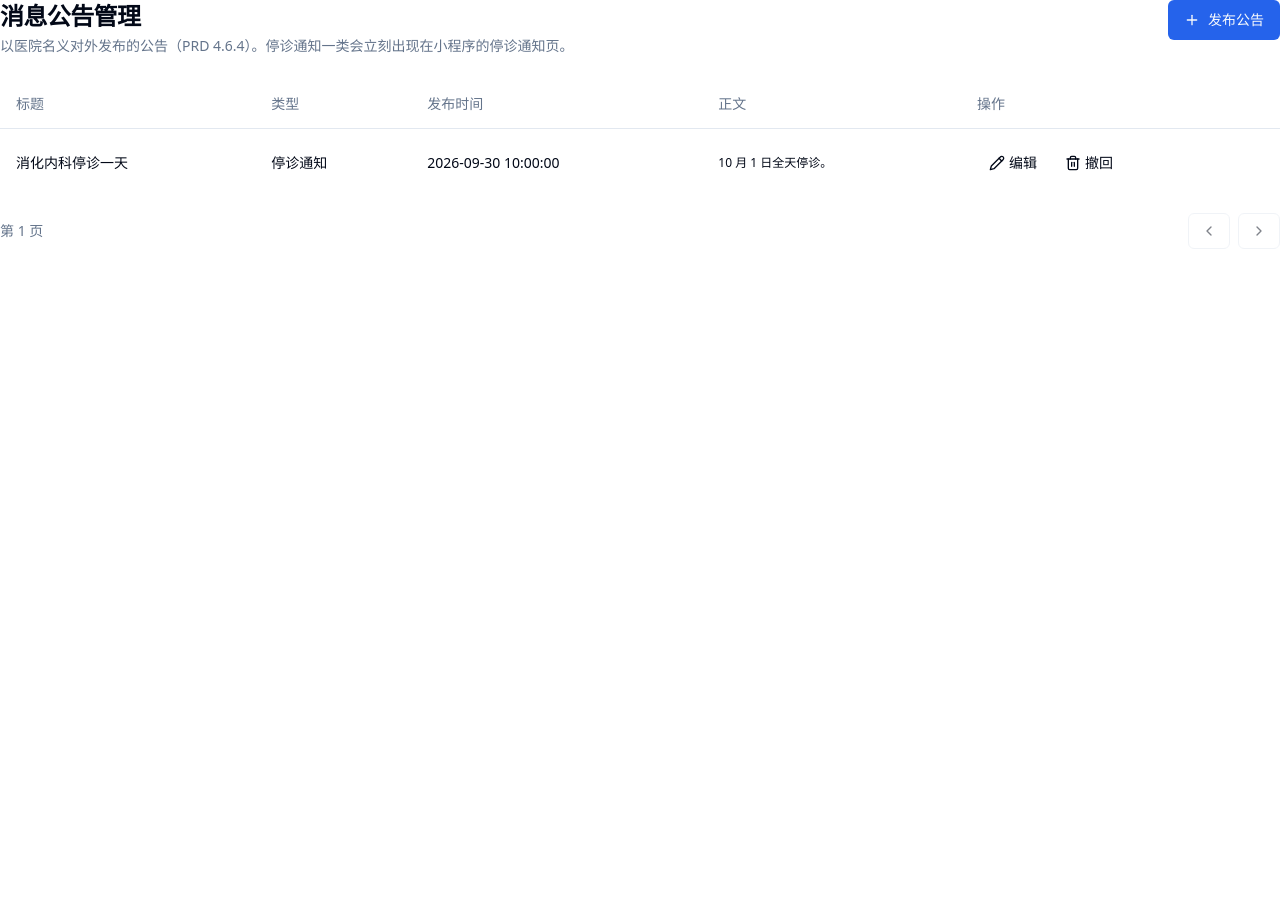
Test case: 消息公告管理页（PRD 4.6.4） › PRD 462 行的「推送范围」没有落点，页面上不出现这个字段
Click the button "发布公告". click: (1224, 20)
box: [1168, 0, 1279, 40]
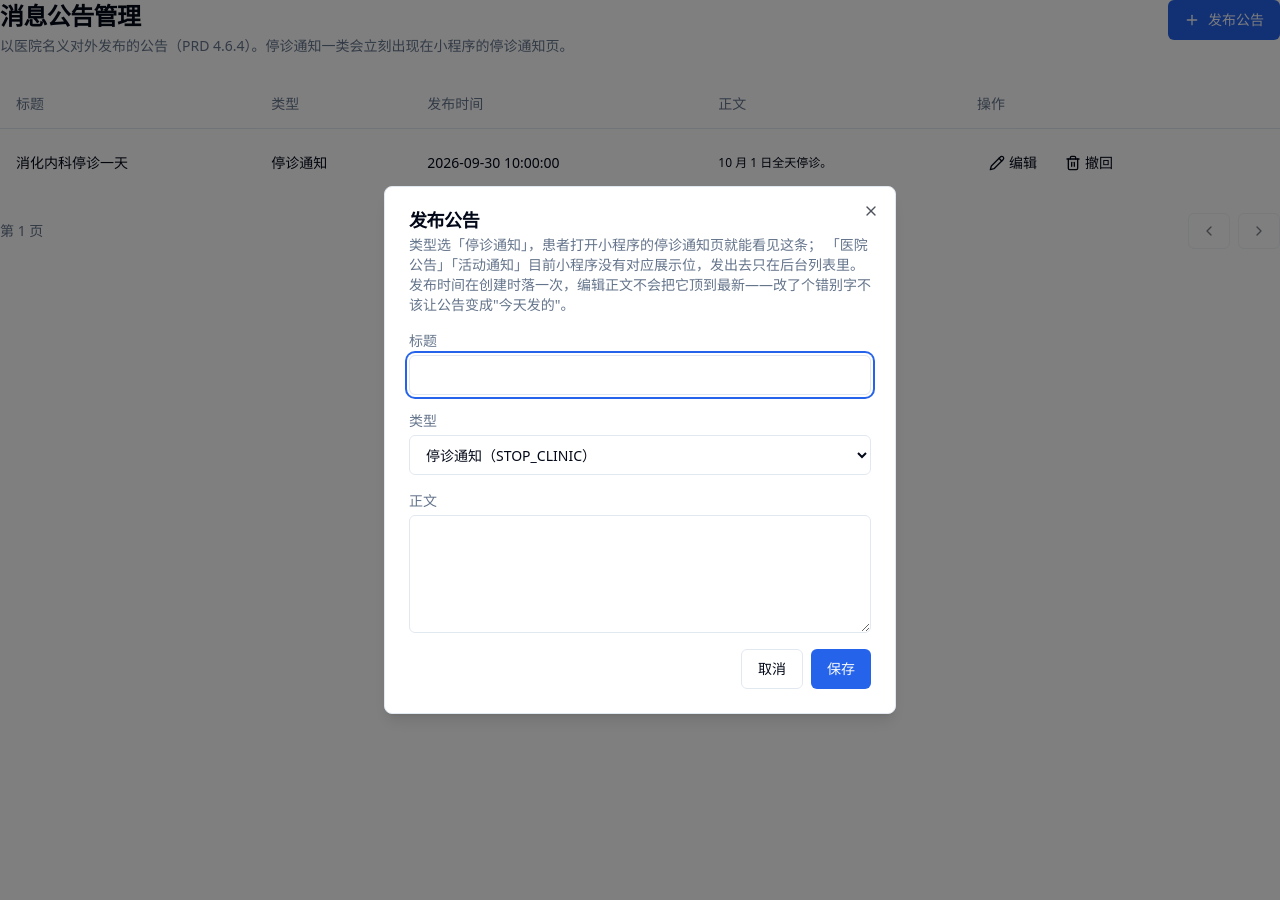
Expected: the text "「医院公告」「活动通知」目前小程序没有对应展示位" is shown, [409, 235, 871, 314]
